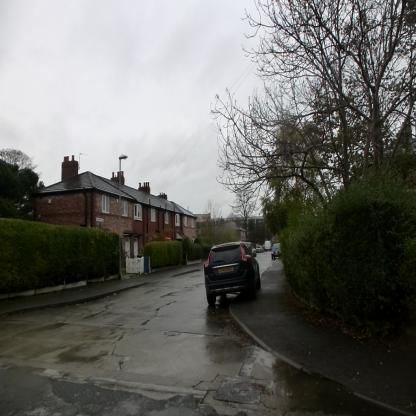Car: (201, 240, 263, 308), (271, 243, 281, 260), (256, 244, 262, 252), (253, 247, 257, 257)
